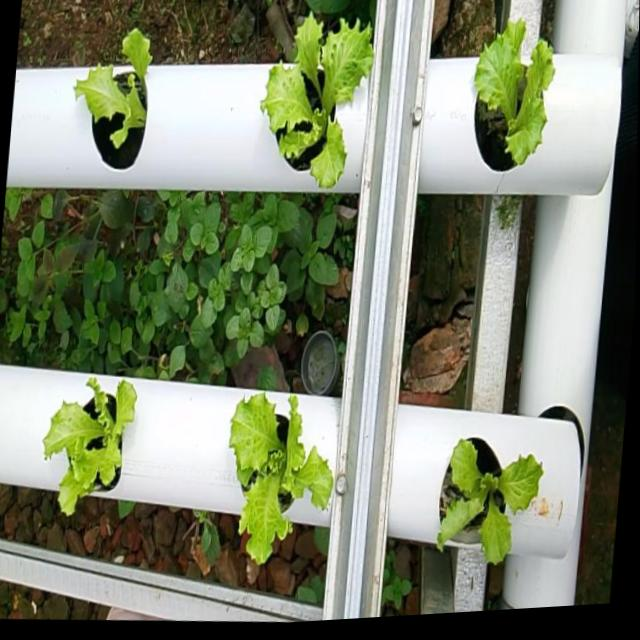Baby: (260, 6, 373, 186), (228, 389, 332, 561), (435, 435, 541, 563), (42, 374, 135, 513), (474, 18, 554, 170), (73, 26, 151, 168)
